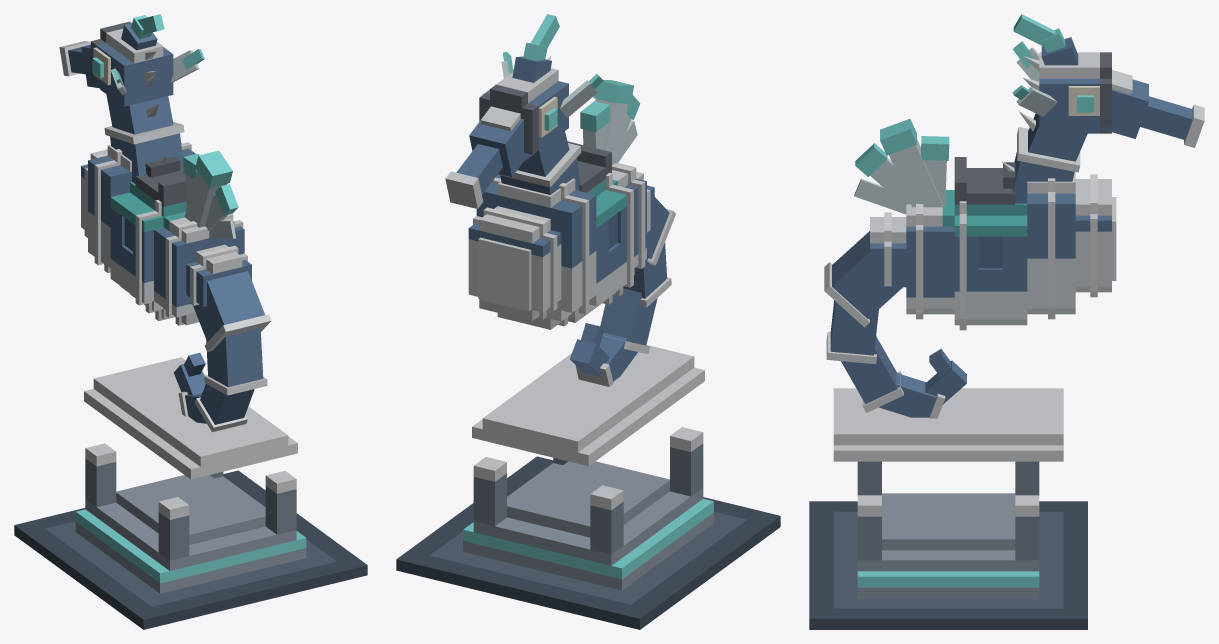
The model's file is SeahorseTrainer7.glb.
3 renders of one model, left to right at view 1: azimuth 30°, elevation 25°; view 2: azimuth 150°, elevation 25°; view 3: azimuth 270°, elevation 25°, orthographic. The views are drawn at different scales.
Parts seen in each view (by area): view 1: Stand, Body, Plate, Head, Fin, T1, T2, T3, T5, T4; view 2: Stand, Body, Plate, Head, Fin, T3, T4, T2, T1, T5; view 3: Stand, Body, Plate, Head, Fin, T1, T2, T3, T4, T5.
Part boxes in pixels (x1=…): Stand: x1=14, y1=443, x2=367, y2=629; Body: x1=81, y1=78, x2=251, y2=325; Plate: x1=84, y1=357, x2=297, y2=479; Head: x1=59, y1=14, x2=204, y2=106; Fin: x1=183, y1=150, x2=238, y2=238; T1: x1=193, y1=271, x2=271, y2=351; T2: x1=204, y1=328, x2=267, y2=395; T3: x1=195, y1=384, x2=254, y2=432; T5: x1=174, y1=364, x2=205, y2=395; T4: x1=178, y1=391, x2=206, y2=423; Stand: x1=396, y1=427, x2=780, y2=629; Body: x1=468, y1=131, x2=654, y2=329; Plate: x1=472, y1=345, x2=704, y2=466; Head: x1=445, y1=14, x2=603, y2=208; Fin: x1=580, y1=80, x2=640, y2=164; T3: x1=600, y1=288, x2=657, y2=353; T4: x1=575, y1=332, x2=637, y2=386; T2: x1=623, y1=243, x2=671, y2=307; T1: x1=647, y1=197, x2=675, y2=265; T5: x1=570, y1=339, x2=609, y2=376; Stand: x1=809, y1=461, x2=1087, y2=629; Body: x1=870, y1=86, x2=1116, y2=330; Plate: x1=833, y1=388, x2=1063, y2=461; Head: x1=1012, y1=14, x2=1204, y2=147; Fin: x1=854, y1=119, x2=949, y2=214; T1: x1=824, y1=231, x2=906, y2=327; T2: x1=826, y1=300, x2=878, y2=364; T3: x1=841, y1=336, x2=903, y2=412; T4: x1=879, y1=373, x2=945, y2=418; T5: x1=925, y1=360, x2=966, y2=404.
Bounding box in the file's own units: 9.2 × 20.23 × 13.06.
